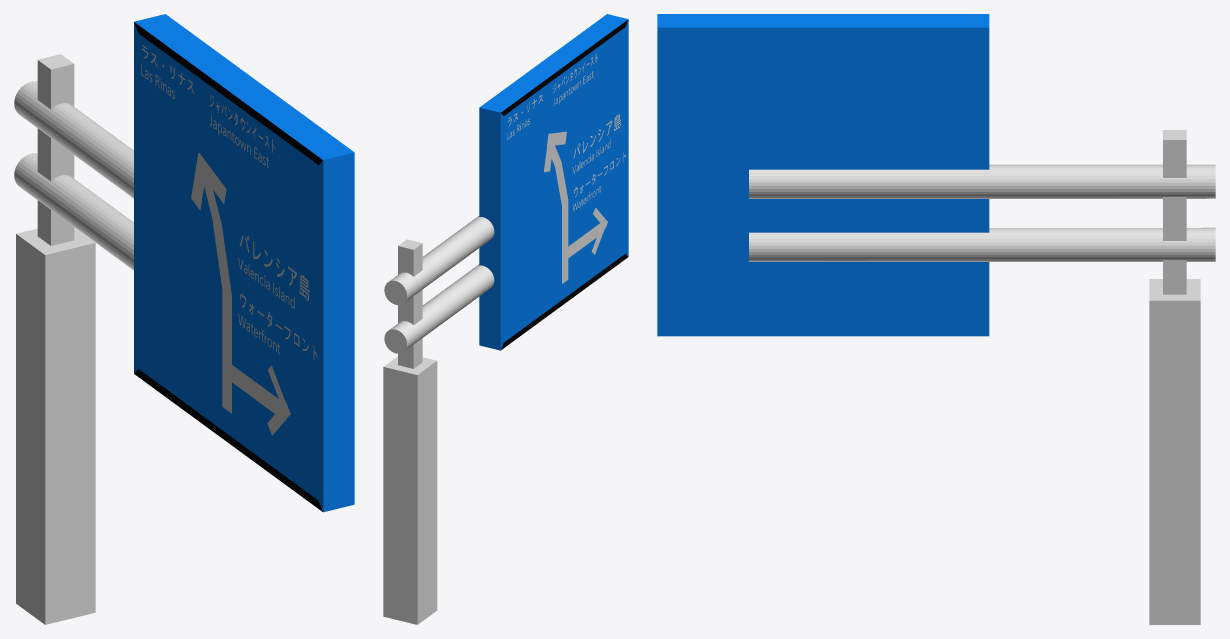
Rendered from japantown_sign_6.fbx.
The picture shows the model from 3 angles, left to right: view 1: azimuth 30°, elevation 25°; view 2: azimuth 150°, elevation 25°; view 3: azimuth 270°, elevation 25°; orthographic projection. The views are drawn at different scales.
Visible parts, largest first — view 1: Cube.003, Cube, Cylinder, Cylinder.001, Plane, Plane.001, Plane.005; view 2: Cube.003, Cube, Cylinder.001, Cylinder, Plane, Plane.001; view 3: Cube.003, Cube, Cylinder, Cylinder.001.
Part boxes in pixels (box(x1,y1,x2,y2)): Cube.003: box(134, 14, 354, 512); Cube: box(16, 54, 95, 624); Cylinder: box(14, 81, 133, 198); Cylinder.001: box(14, 153, 133, 270); Plane: box(204, 180, 231, 413); Plane.001: box(232, 365, 285, 421); Plane.005: box(191, 153, 207, 209); Cube.003: box(479, 14, 628, 350); Cube: box(383, 239, 437, 624); Cylinder.001: box(384, 264, 494, 353); Cylinder: box(384, 216, 494, 304); Plane: box(546, 145, 568, 283); Plane.001: box(568, 223, 603, 257); Cube.003: box(657, 14, 989, 336); Cube: box(1149, 130, 1200, 624); Cylinder: box(749, 164, 1215, 198); Cylinder.001: box(749, 227, 1215, 261).
Bounding box in the file's own units: 6.7 × 76.11 × 65.5.
